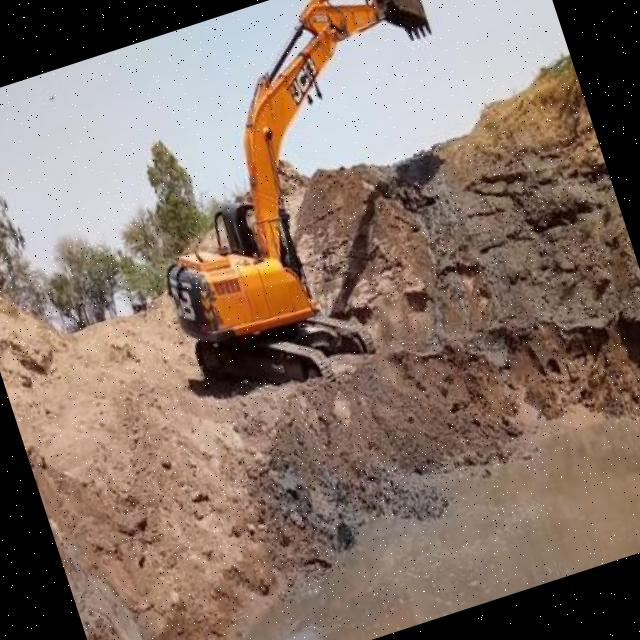Excavator: (90, 0, 529, 422)
